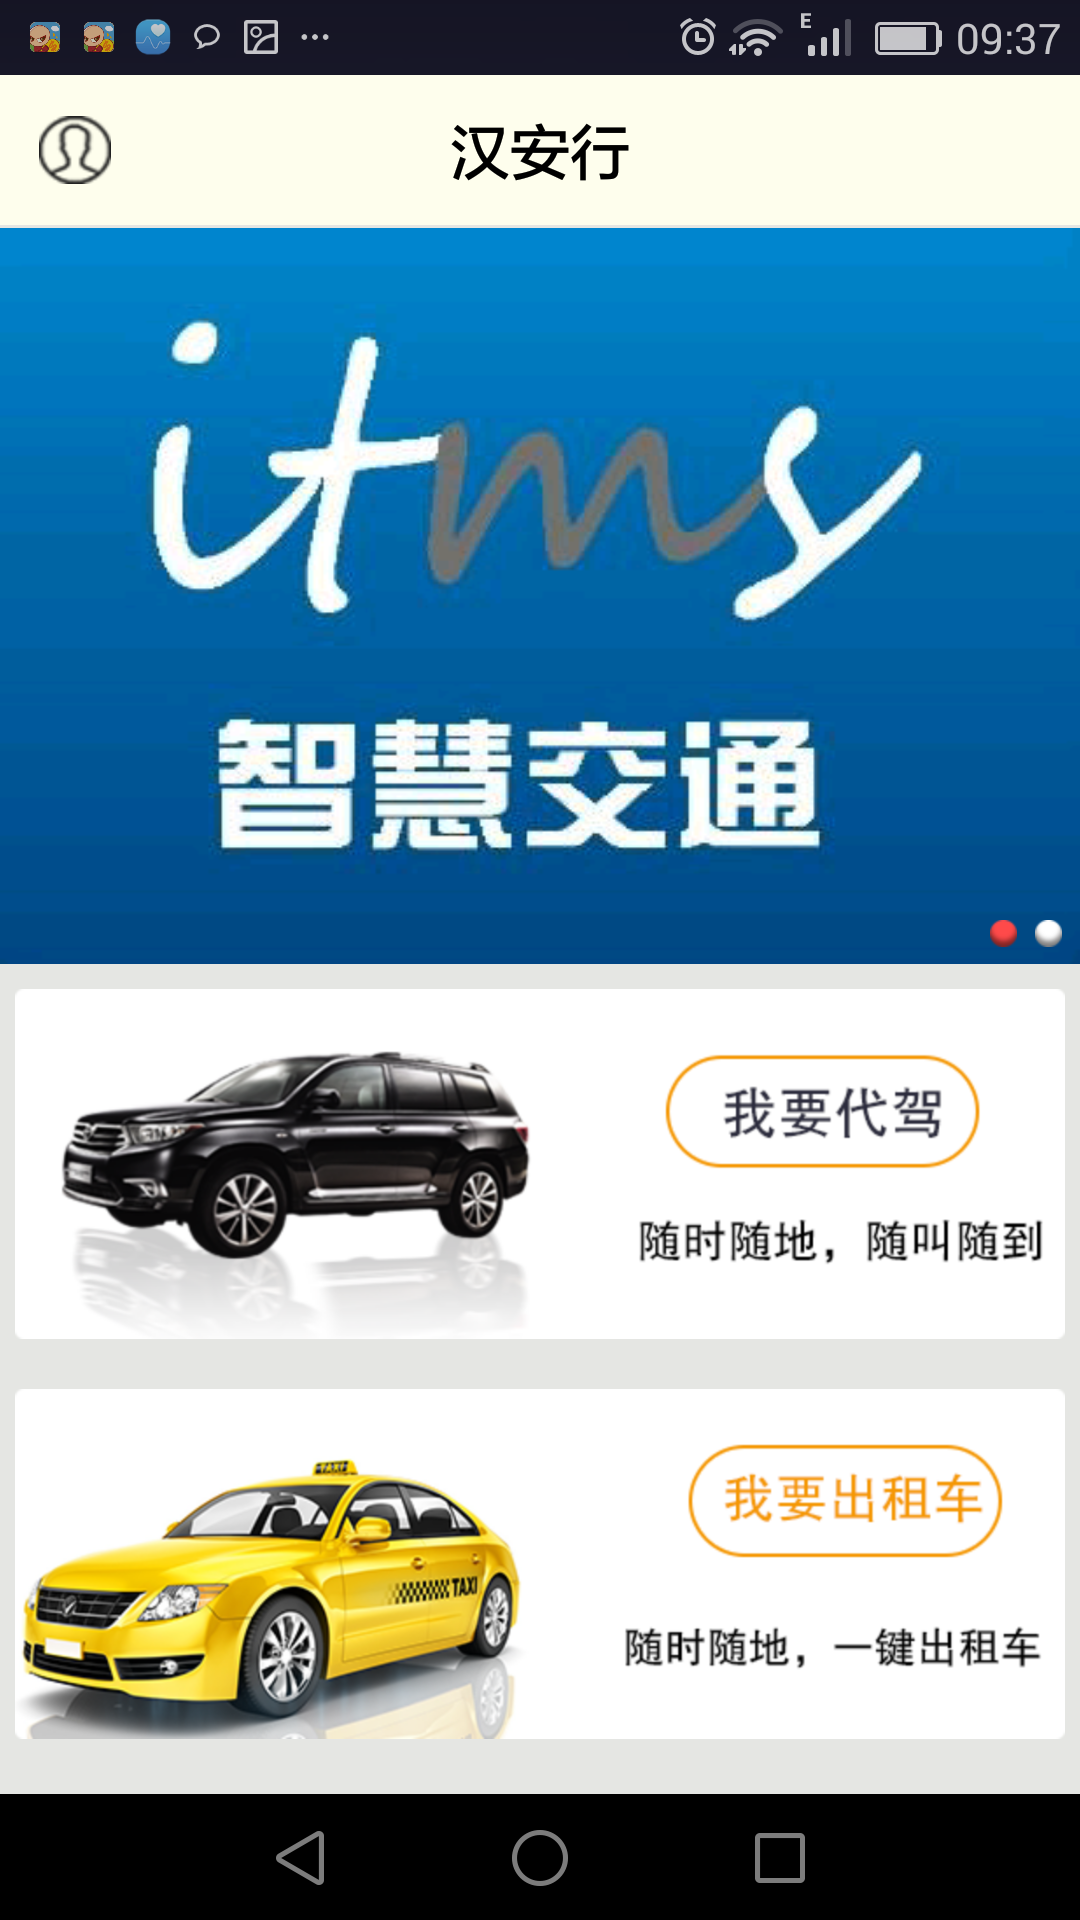imgbutton: (737, 1822, 818, 1900)
